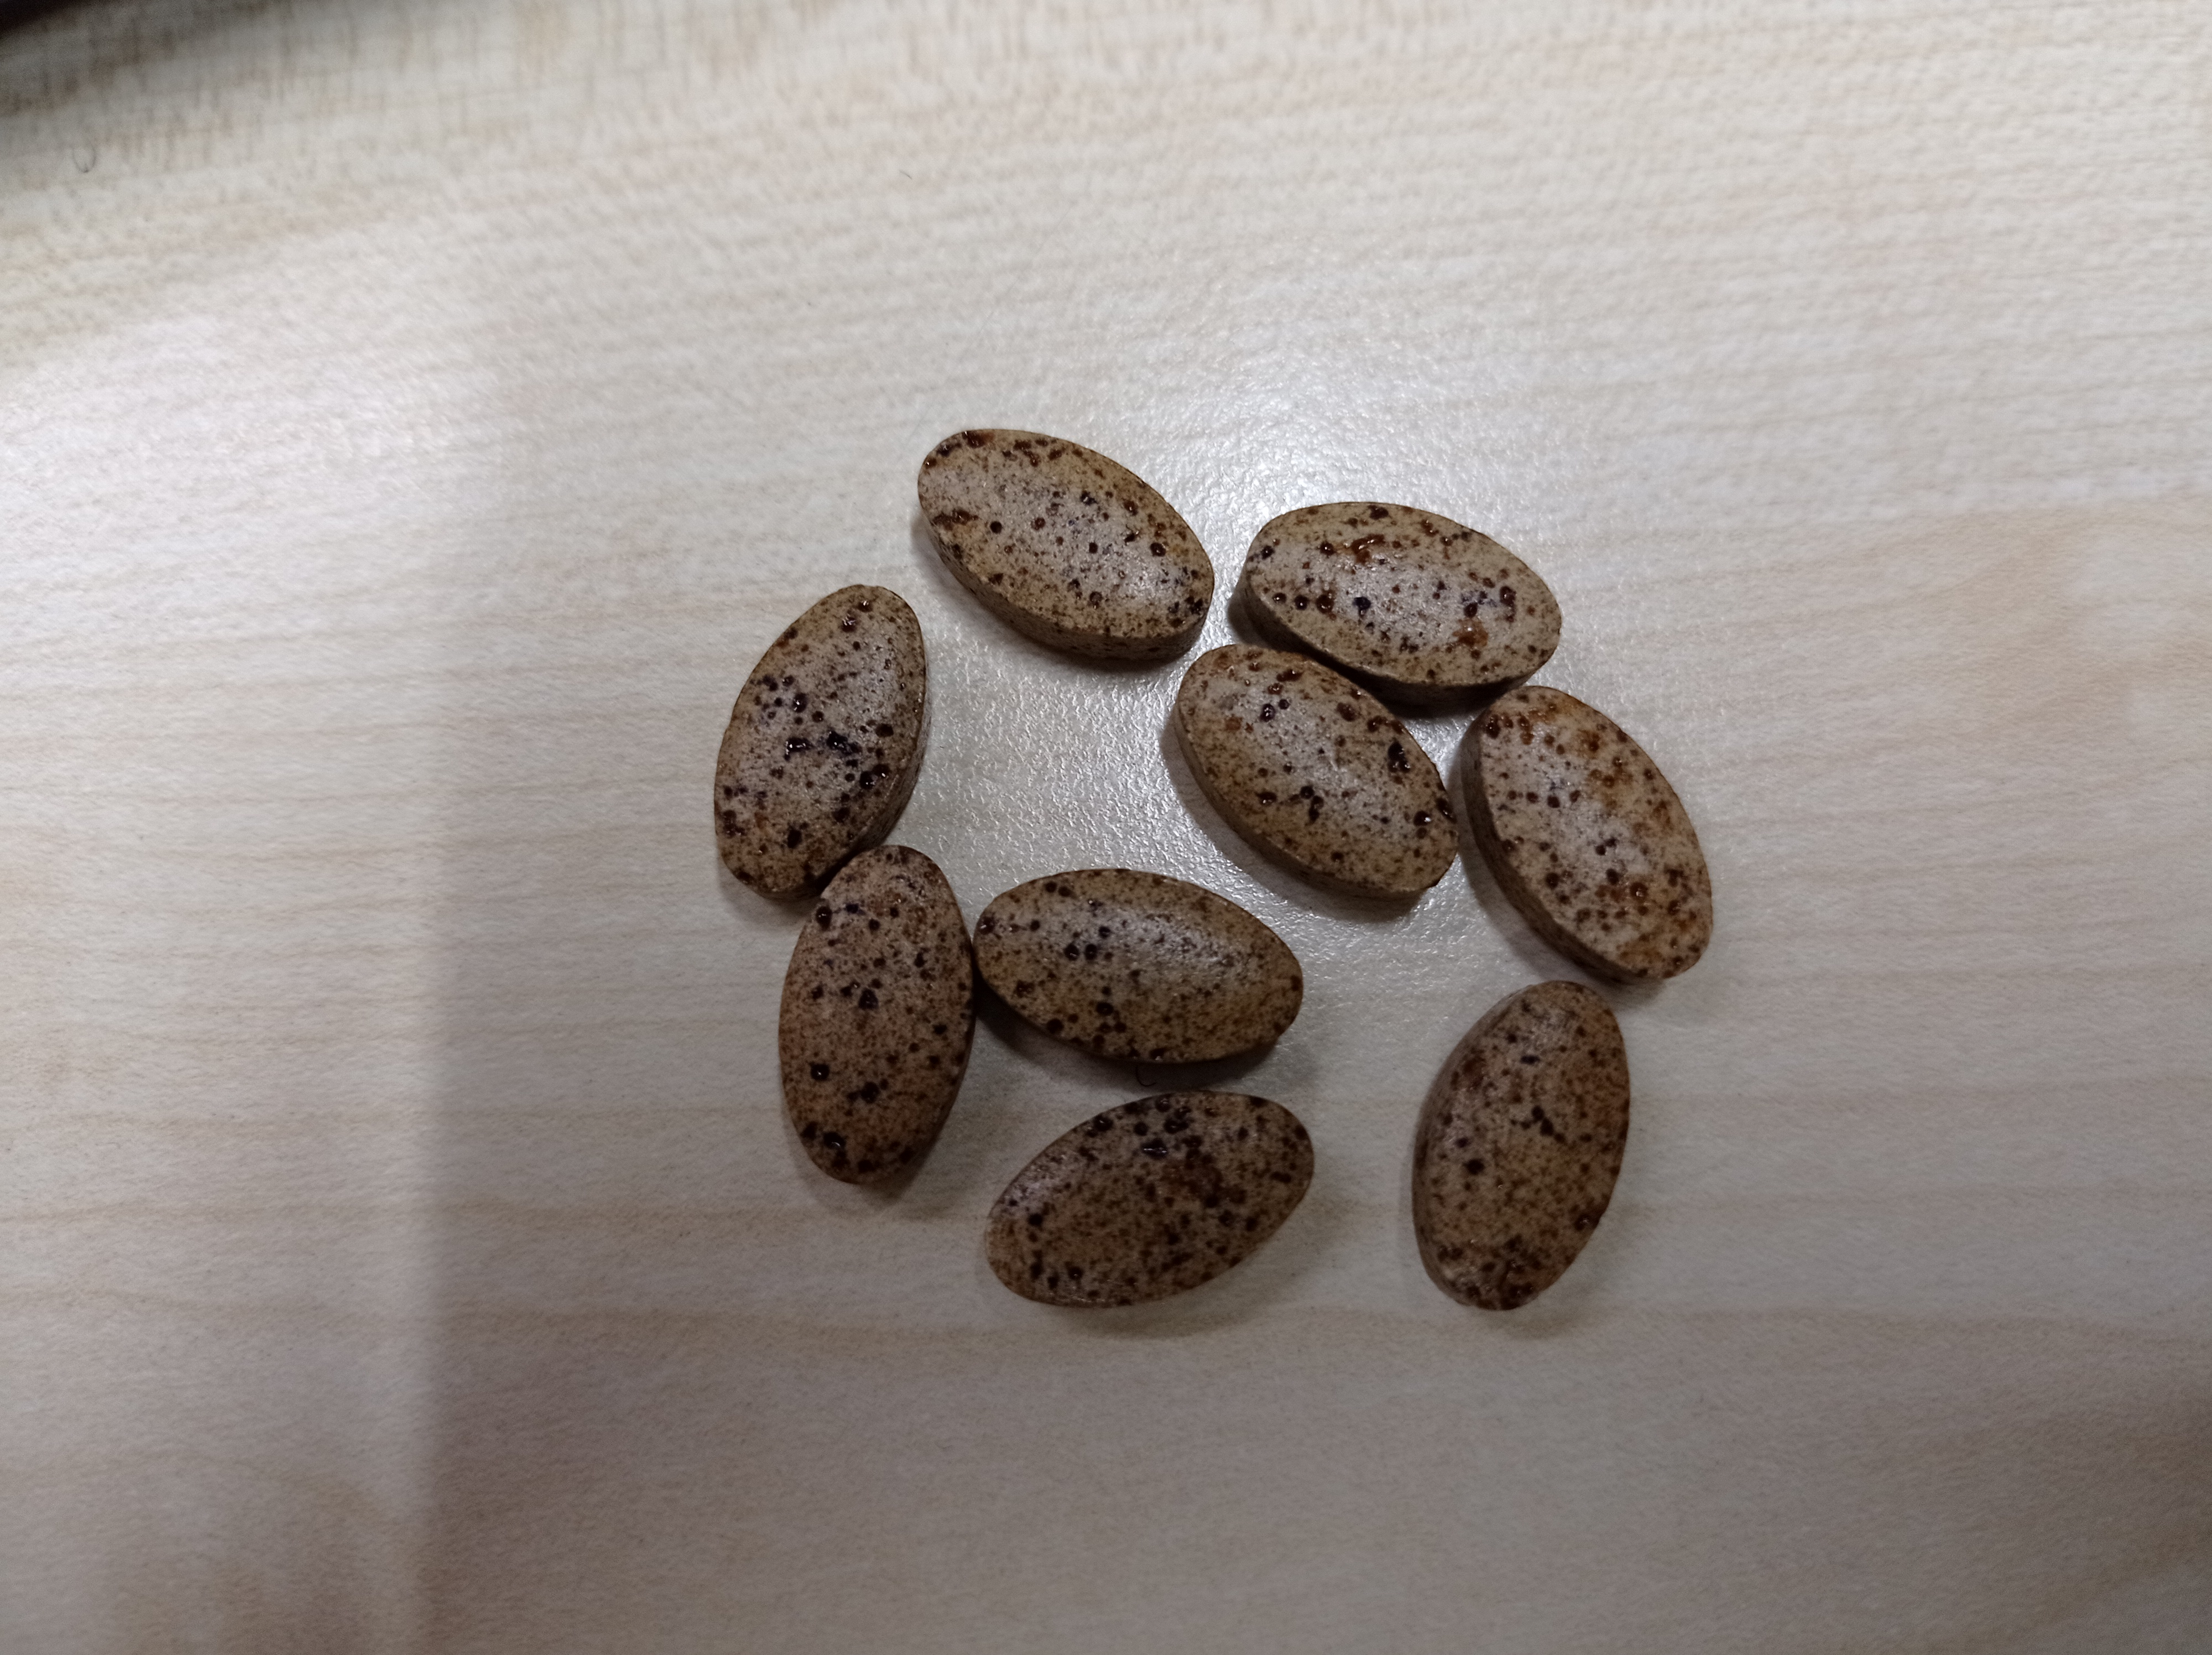brown_medicine: (983, 1088, 1315, 1316), (1465, 687, 1719, 984), (1406, 980, 1632, 1314), (1175, 641, 1461, 902), (916, 426, 1216, 664), (778, 850, 977, 1194), (968, 871, 1310, 1069), (714, 588, 931, 895), (1242, 501, 1560, 706)
